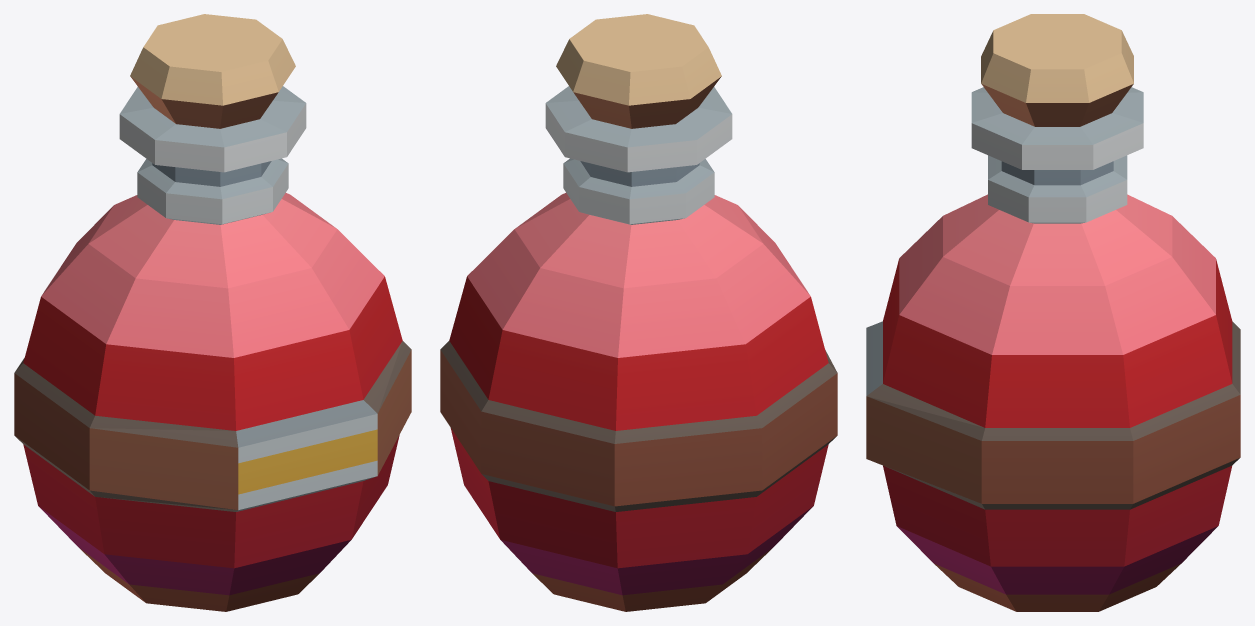
The model's file is source.glb.
3 renders of one model, left to right at view 1: azimuth 30°, elevation 25°; view 2: azimuth 150°, elevation 25°; view 3: azimuth 270°, elevation 25°, orthographic.
Visible parts, largest first — view 1: model; view 2: model; view 3: model.
Boxes of the visible parts, x1,y1,x2,y2 form: model: (14,14,411,611); model: (440,14,837,611); model: (866,14,1240,611).
Bounding box in the file's own units: 0.72 × 1.12 × 0.72.
1 material, 1 textured.
